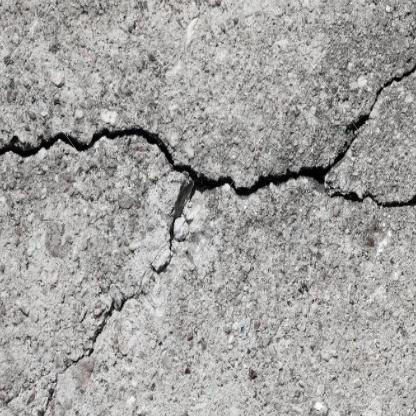Cracks: (0, 47, 416, 279), (28, 287, 153, 416), (410, 371, 416, 416)
